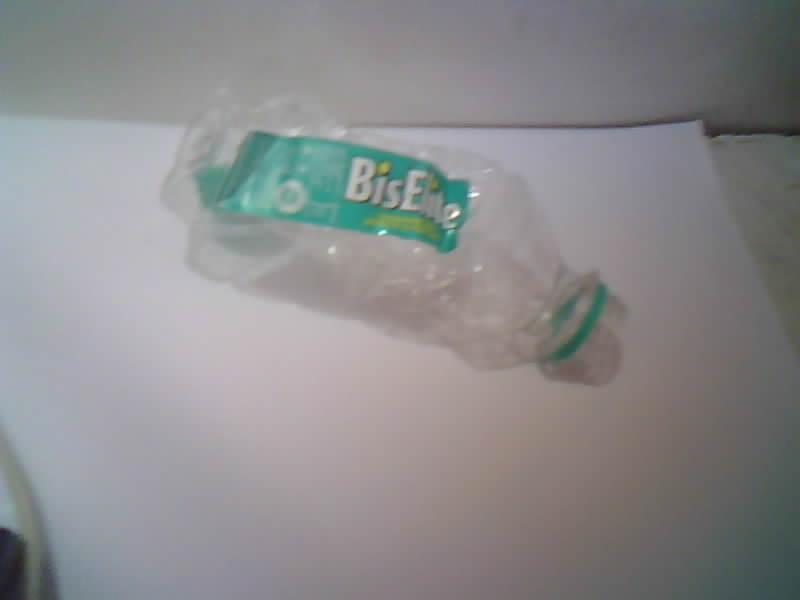non-biodegradable: (163, 99, 623, 382)
